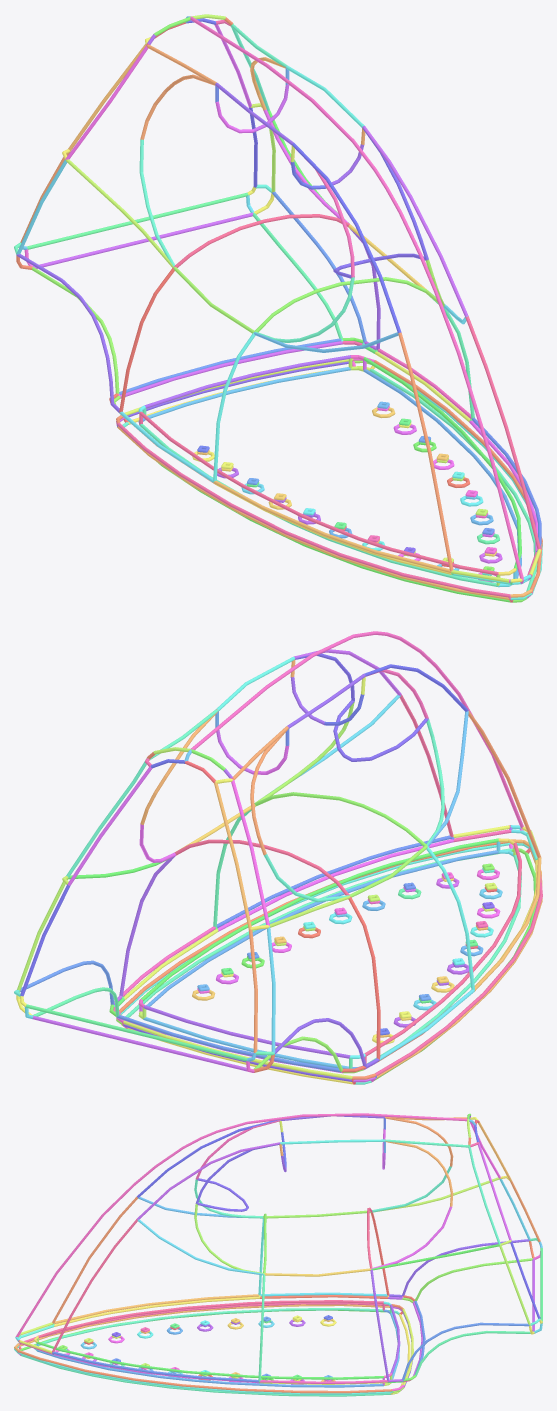
Rendered from onshape_iron.gltf.
3 renders of one model, top to bottom at view 1: azimuth 30°, elevation 25°; view 2: azimuth 150°, elevation 25°; view 3: azimuth 270°, elevation 25°, orthographic. The views are drawn at different scales.
Size of the model in its own units: 0.3408 by 0.4238 by 0.8458.
